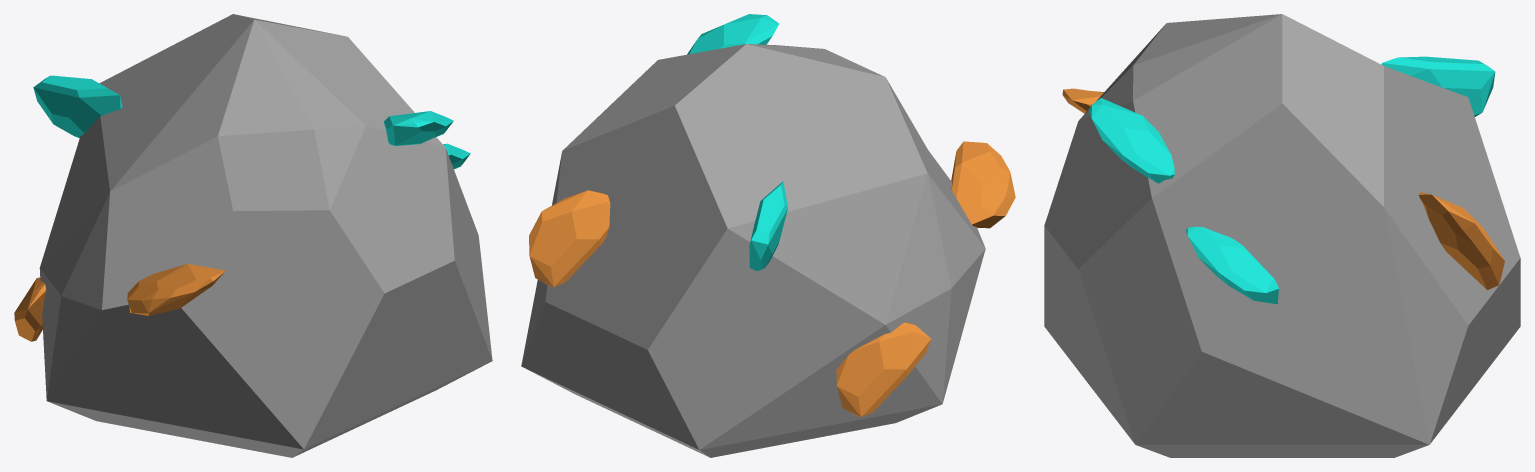
Rendered from Copper.fbx.
3 views of the same model, side by side, from view 1: azimuth 30°, elevation 25°; view 2: azimuth 150°, elevation 25°; view 3: azimuth 270°, elevation 25° (orthographic). The views are drawn at different scales.
Visible parts, largest first — view 1: Rock, Ore.002, Ore.003, Ore, Ore.005; view 2: Rock, Ore.001, Ore.005, Ore.003, Ore.002, Ore; view 3: Rock, Ore, Ore.001, Ore.004, Ore.002, Ore.003.
Part boxes in pixels (box(x1,y1,x2,y2)): Rock: box(39, 14, 492, 457); Ore.002: box(33, 75, 122, 138); Ore.003: box(127, 264, 225, 315); Ore: box(384, 111, 453, 145); Ore.005: box(14, 277, 46, 341); Rock: box(521, 44, 985, 457); Ore.001: box(529, 190, 610, 286); Ore.005: box(836, 322, 931, 416); Ore.003: box(951, 141, 1015, 228); Ore.002: box(749, 181, 787, 271); Ore: box(687, 14, 779, 54); Rock: box(1044, 14, 1520, 457); Ore: box(1088, 98, 1174, 183); Ore.001: box(1419, 192, 1504, 289); Ore.004: box(1186, 226, 1279, 304); Ore.002: box(1381, 56, 1495, 116); Ore.003: box(1062, 88, 1103, 113).
Size of the model in its own units: 86.54 by 74.69 by 85.06.
